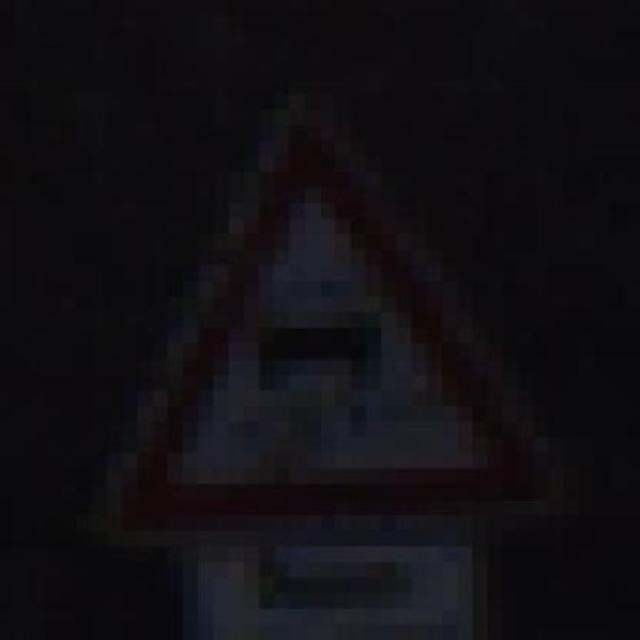Slippery Road Ahead: (61, 94, 564, 546)
